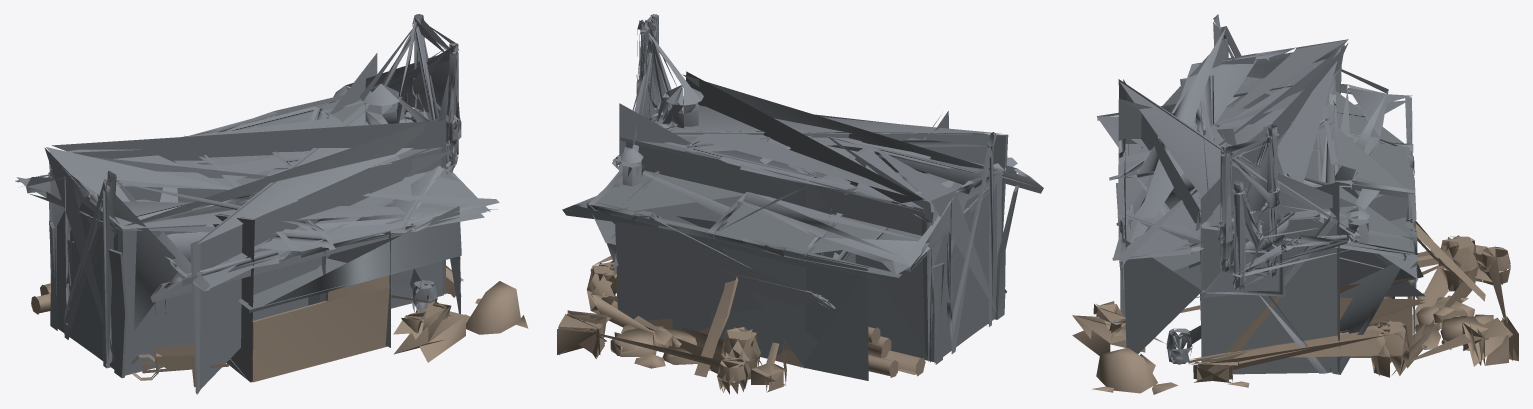
File: gathering_post.glb
3 views of the same model, side by side, from view 1: azimuth 30°, elevation 25°; view 2: azimuth 150°, elevation 25°; view 3: azimuth 270°, elevation 25° (orthographic). The views are drawn at different scales.
Visible parts, largest first — view 1: gathering_post_Building; view 2: gathering_post_Building; view 3: gathering_post_Building.
Boxes of the visible parts, bbox=[...] form: gathering_post_Building: bbox=[15, 14, 528, 394]; gathering_post_Building: bbox=[557, 14, 1043, 394]; gathering_post_Building: bbox=[1072, 14, 1518, 394].
Size of the model in its own units: 10.59 by 6.76 by 10.73.
